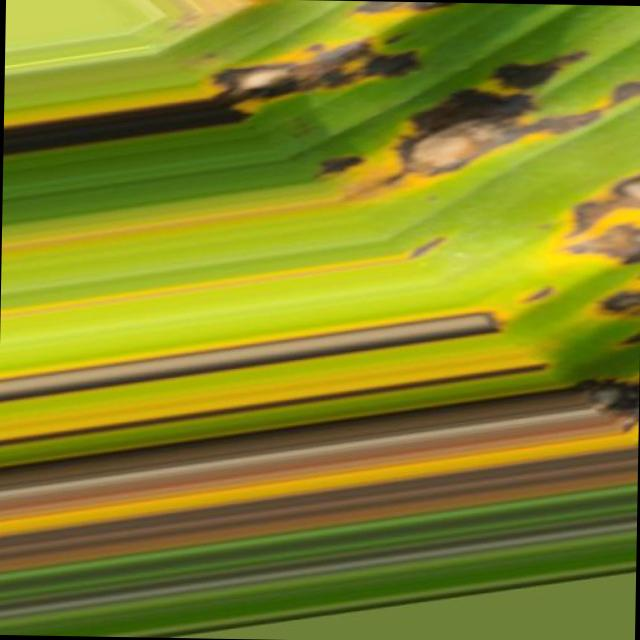Banana_Yellow_Sigatoka: (207, 1, 640, 179), (515, 166, 640, 497)
